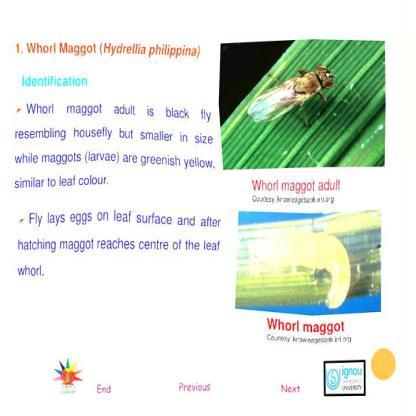whorl-maggot: (248, 224, 354, 310)
